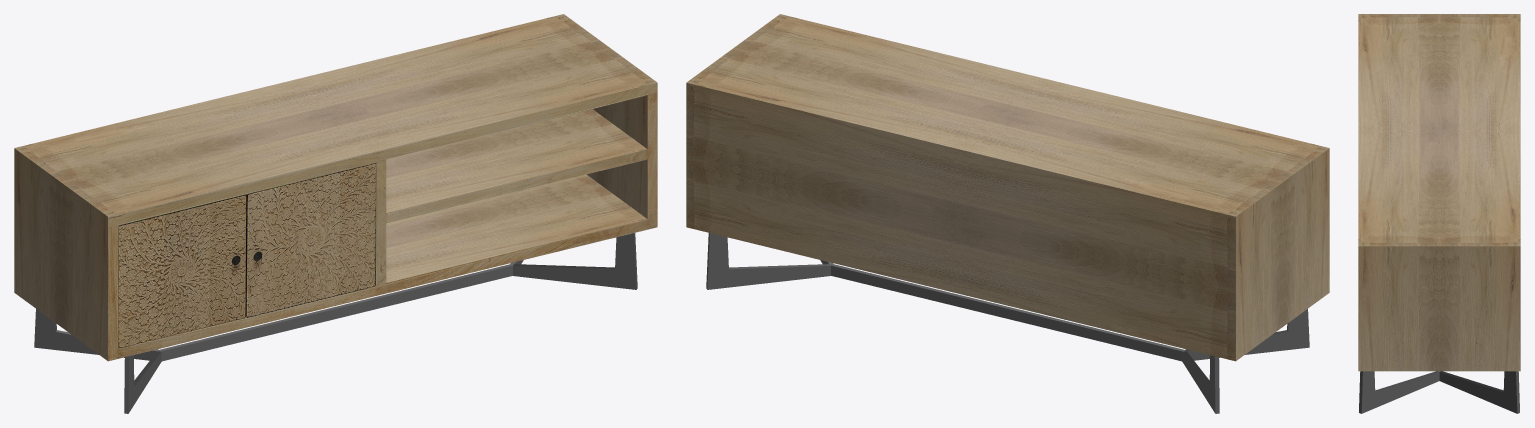
The model's file is TV stand.gltf.
3 renders of one model, left to right at view 1: azimuth 30°, elevation 25°; view 2: azimuth 150°, elevation 25°; view 3: azimuth 270°, elevation 25°, orthographic. The views are drawn at different scales.
Parts seen in each view (by area): view 1: node-0; view 2: node-0; view 3: node-0.
Boxes of the visible parts, x1,y1,x2,y2 form: node-0: [14, 14, 657, 413]; node-0: [686, 14, 1329, 413]; node-0: [1358, 14, 1520, 413].
Size of the model in its own units: 1.42 by 0.5 by 0.42.
Materials: 3 (2 with a texture image).
